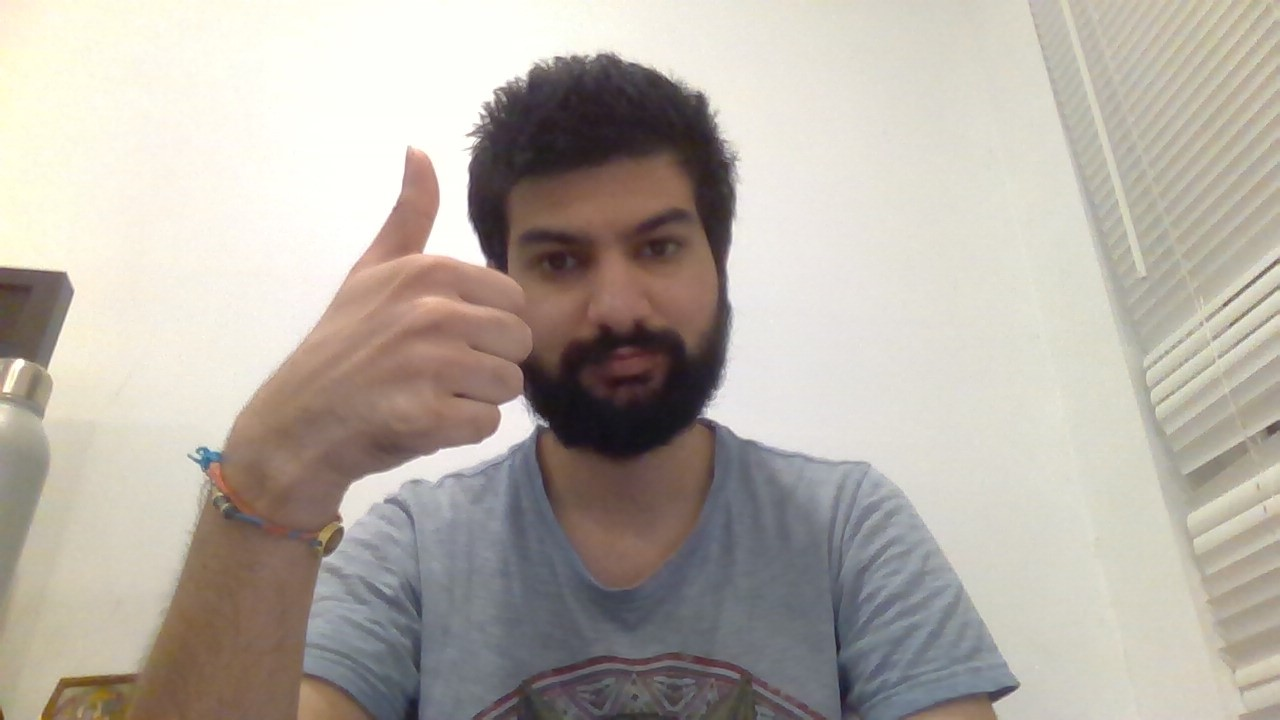up: (319, 136, 545, 473)
